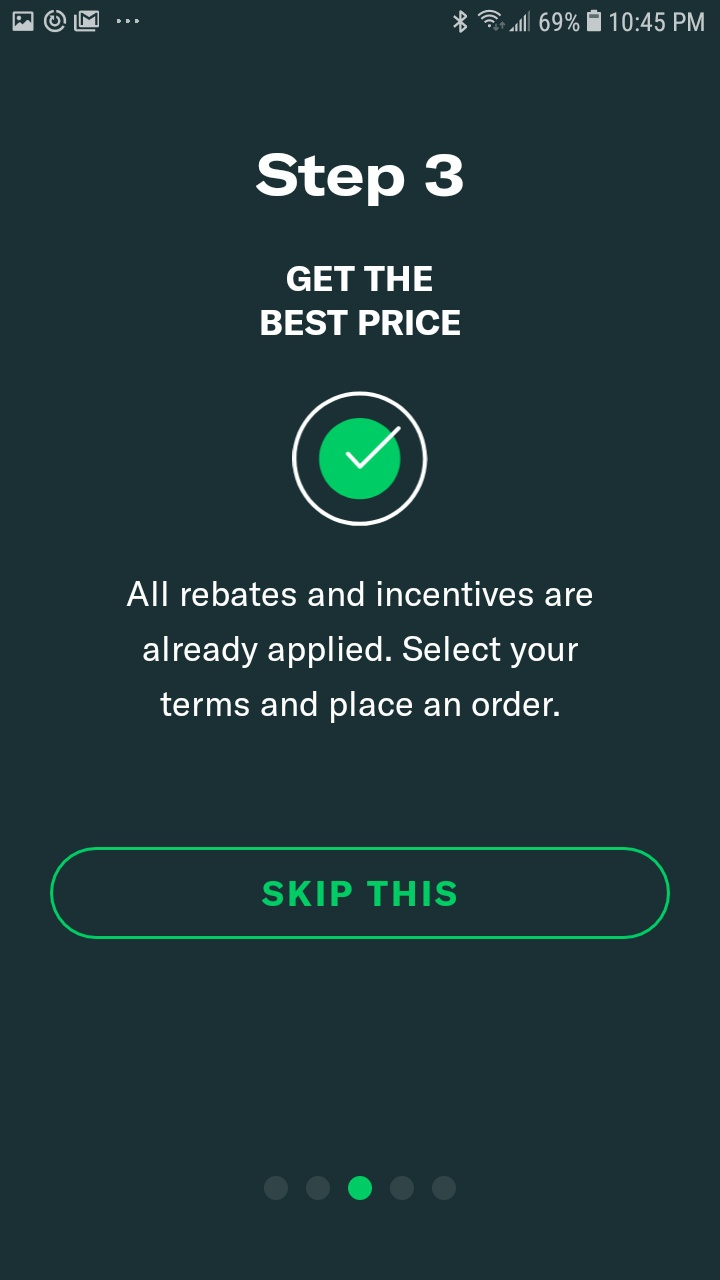Image: (292, 391, 429, 527)
PageIndicator: (263, 1174, 458, 1201)
Text: (126, 581, 593, 724), (261, 266, 461, 336), (255, 153, 464, 208)
TextButton: (50, 846, 671, 940)
UpperTaskBar: (1, 1, 720, 43)
